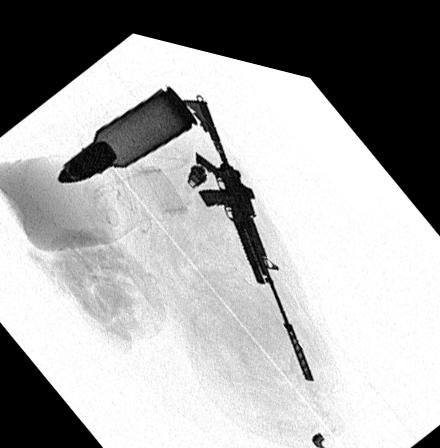Bullet: (56, 71, 198, 178)
Gun: (179, 87, 315, 365)
